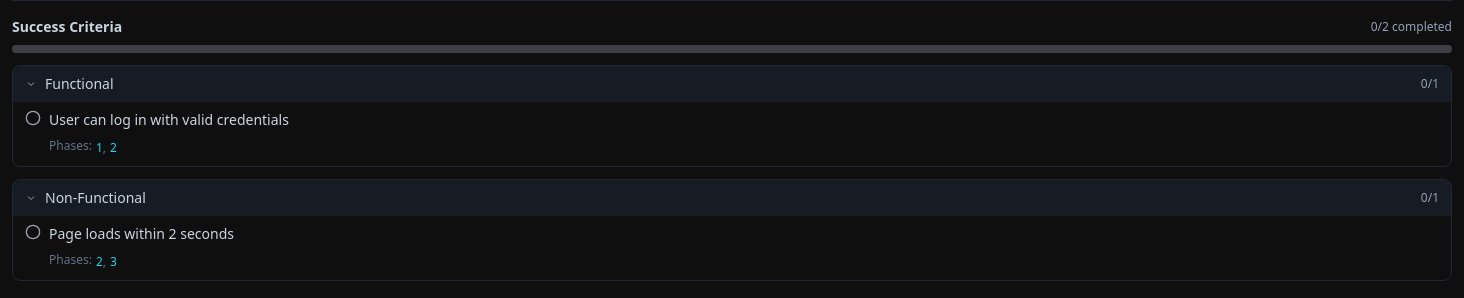
Scenario: SuccessCriteriaChecklist › LocalStorage Persistence › should preserve collapsed state for multiple categories independently
What coordinates should you click on to do the following:
click the button with test id "category-header-functional"
I would click on:
 (79, 84)
Its box is [13, 66, 1451, 102].
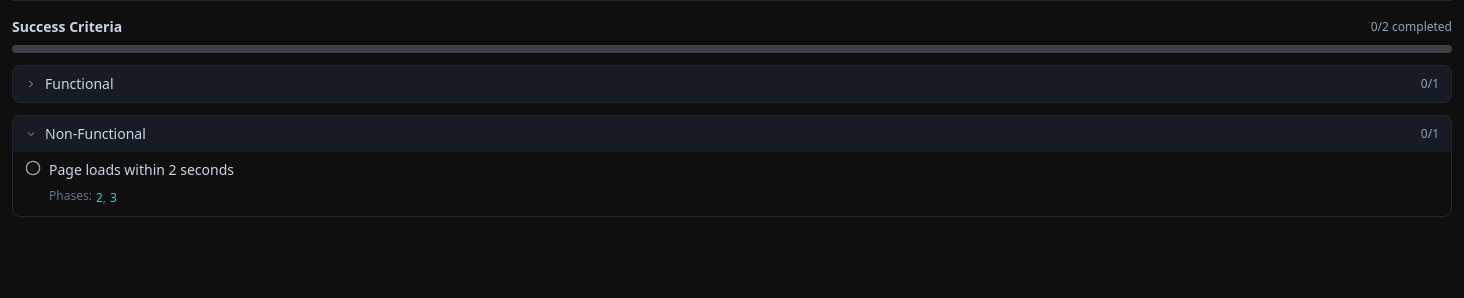
Expected: the element with test id "category-content-non-functional" is shown, [25, 160, 234, 206]
Result: the element with test id "category-content-functional" is gone
